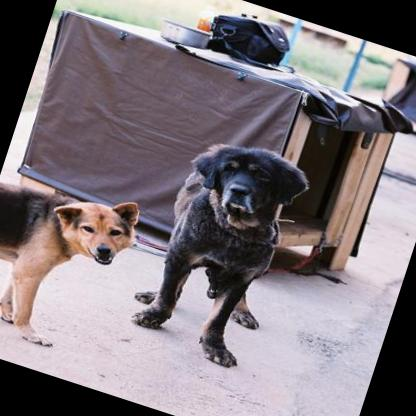Tibetan_mastiff: (126, 127, 324, 382)
